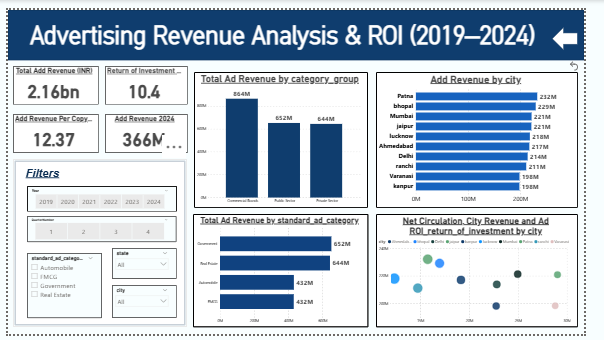

What the dashboard file says about the page in this screenshot:
{"tool":"powerbi","page":{"name":"Advertising Revenue Analysis ","canvas":[1920,1080],"ordinal":2},"visuals":[{"type":"shape","box":[0,0,1920,167.5],"z":0},{"type":"textbox","box":[0,25,1830,142.5],"z":1000},{"type":"card","title":"Total Add Revenue (INR)","fields":{"Values":["fact_ad_revenue.Total Ad Revenue"]},"box":[17.5,187.5,285,127.5],"z":2000},{"type":"card","title":"Add Revenue Per Copy 2024","fields":{"Values":["fact_ad_revenue.Ad Revenue per Copy 2024"]},"box":[17.5,347.5,285,130],"z":3000},{"type":"card","title":"Return of Investment / copy","fields":{"Values":["fact_ad_revenue.Ad ROI_return_of_investment"]},"box":[322.5,187.5,275,127.5],"z":4000},{"type":"card","title":"Add Revenue 2024","fields":{"Values":["fact_ad_revenue.Ad Revenue 2024"]},"box":[322.5,347.5,275,130],"z":5000},{"type":"columnChart","fields":{"Y":["fact_ad_revenue.Total Ad Revenue"],"Category":["dim_ad_category.category_group"]},"box":[620,207.5,580,452.5],"z":6000},{"type":"actionButton","box":[1866.7,166.7,53.3,40],"z":7000},{"type":"clusteredBarChart","title":"Add Revenue by city","fields":{"Category":["dim_city.city"],"Y":["fact_ad_revenue.City Revenue"]},"box":[1225,207.5,672.5,452.5],"z":8000},{"type":"scatterChart","fields":{"X":["fact_print_sales.Net Circulation"],"Size":["fact_ad_revenue.Ad ROI_return_of_investment"],"Series":["dim_city.city"],"Y":["fact_ad_revenue.City Revenue"]},"box":[1225,680,672.5,377.5],"z":9000},{"type":"clusteredBarChart","fields":{"Category":["dim_ad_category.standard_ad_category"],"Y":["fact_ad_revenue.Total Ad Revenue"]},"box":[615,680,585,377.5],"z":10000},{"type":"shape","box":[17.5,497.5,580,560],"z":11000},{"type":"slicer","fields":{"Values":["dim_city.city"]},"box":[346.7,915,215,110],"z":12000},{"type":"slicer","fields":{"Values":["dim_city.state"]},"box":[345,793.3,215,103.3],"z":13000},{"type":"slicer","fields":{"Values":["calender.Year"]},"box":[61.7,585,500,85],"z":14000},{"type":"slicer","fields":{"Values":["calender.QuarterNumber"]},"box":[61.7,686.7,498.3,86.7],"z":15000},{"type":"slicer","fields":{"Values":["dim_ad_category.standard_ad_category"]},"box":[61.7,808.3,250,216.7],"z":16000},{"type":"textbox","box":[51.7,515,300,63.3],"z":17000},{"type":"shape","box":[1812.5,55,85,77.5],"z":17001}]}

Visuals, with their boxes in screenshot pixels (x1, y1, x2, y2), scaled from the page's 1920x1080 canvas onto the 604x340 screenshot:
shape: <bbox>0, 0, 603, 53</bbox>
textbox: <bbox>0, 8, 576, 53</bbox>
"Total Add Revenue (INR)" card: <bbox>6, 59, 95, 99</bbox>
"Add Revenue Per Copy 2024" card: <bbox>6, 109, 95, 150</bbox>
"Return of Investment / copy" card: <bbox>101, 59, 188, 99</bbox>
"Add Revenue 2024" card: <bbox>101, 109, 188, 150</bbox>
columnChart - fact_ad_revenue.Total Ad Revenue x dim_ad_category.category_group: <bbox>195, 65, 378, 208</bbox>
actionButton: <bbox>587, 52, 603, 65</bbox>
"Add Revenue by city" clusteredBarChart: <bbox>385, 65, 597, 208</bbox>
scatterChart - fact_print_sales.Net Circulation x fact_ad_revenue.Ad ROI_return_of_investment: <bbox>385, 214, 597, 333</bbox>
clusteredBarChart - dim_ad_category.standard_ad_category x fact_ad_revenue.Total Ad Revenue: <bbox>193, 214, 378, 333</bbox>
shape: <bbox>6, 157, 188, 333</bbox>
slicer - dim_city.city: <bbox>109, 288, 177, 323</bbox>
slicer - dim_city.state: <bbox>109, 250, 176, 282</bbox>
slicer - calender.Year: <bbox>19, 184, 177, 211</bbox>
slicer - calender.QuarterNumber: <bbox>19, 216, 176, 243</bbox>
slicer - dim_ad_category.standard_ad_category: <bbox>19, 254, 98, 323</bbox>
textbox: <bbox>16, 162, 111, 182</bbox>
shape: <bbox>570, 17, 597, 42</bbox>
